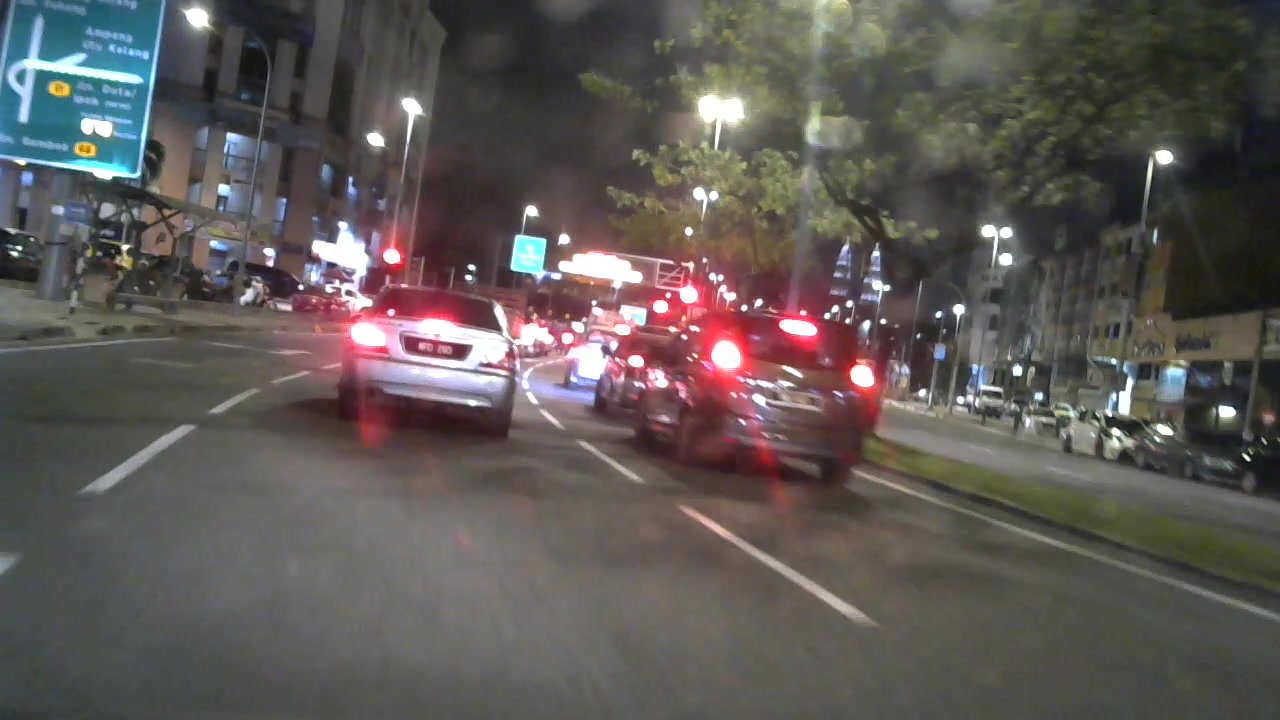Car: (655, 304, 883, 494), (320, 277, 530, 448), (1133, 421, 1256, 494), (1061, 395, 1130, 471), (599, 323, 643, 428), (564, 327, 616, 396)
